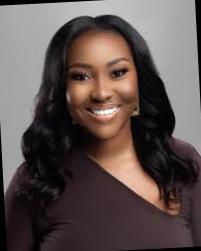Sober: (70, 35, 137, 131)
